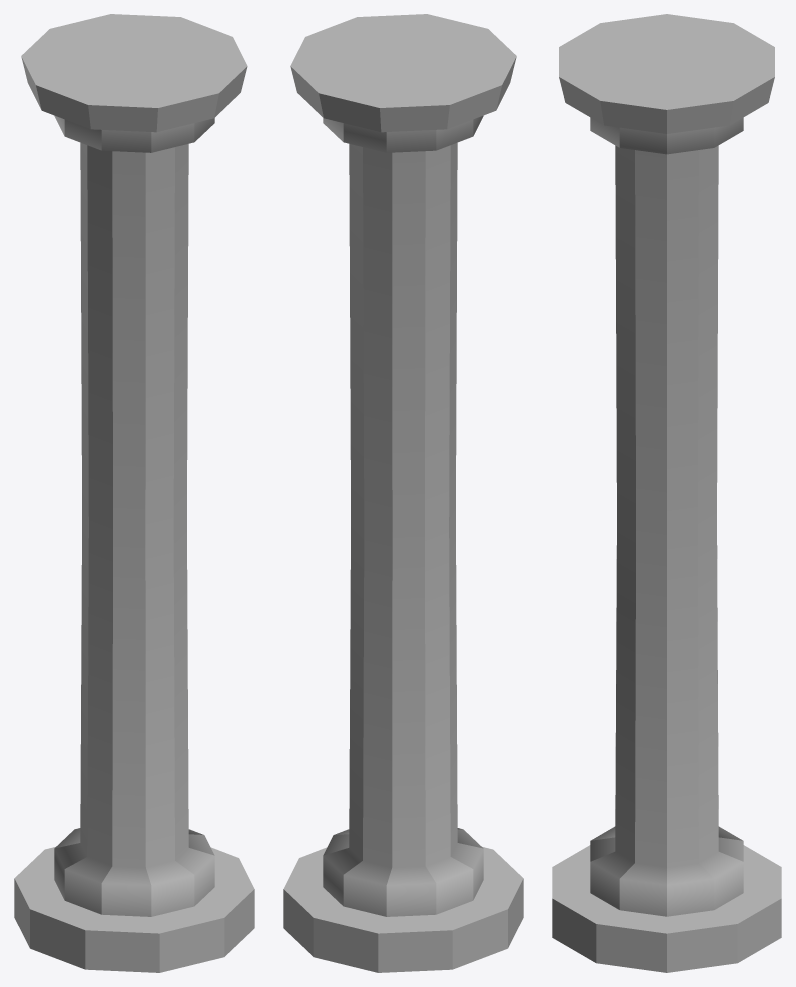
File: Castle_Pillar.fbx
3 renders of one model, left to right at view 1: azimuth 30°, elevation 25°; view 2: azimuth 150°, elevation 25°; view 3: azimuth 270°, elevation 25°, orthographic.
Parts seen in each view (by area): view 1: Pillars7; view 2: Pillars7; view 3: Pillars7.
Boxes of the visible parts, <box> form: Pillars7: <box>14,14,254,972</box>; Pillars7: <box>283,14,523,972</box>; Pillars7: <box>552,14,781,972</box>.
Bounding box in the file's own units: 0.019 × 0.0749 × 0.0181.
